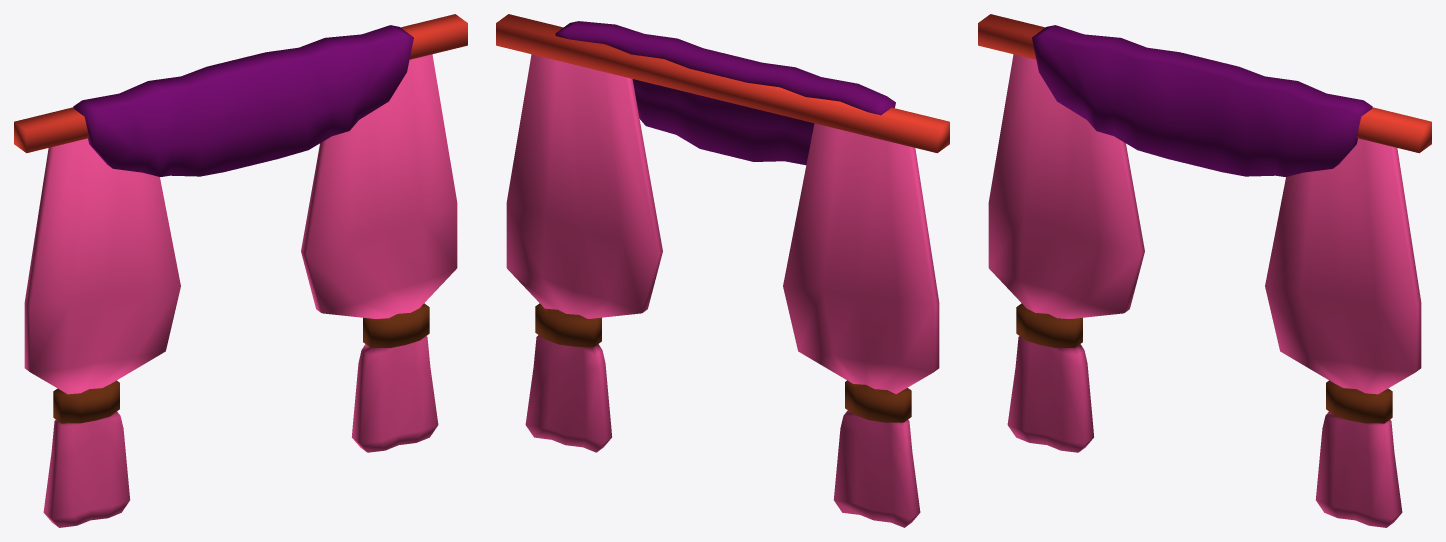
Rendered from cortina.fbx.
The picture shows the model from 3 angles, left to right: view 1: azimuth 30°, elevation 25°; view 2: azimuth 150°, elevation 25°; view 3: azimuth 330°, elevation 25°; orthographic projection.
Visible parts, largest first — view 1: Cortina; view 2: Cortina; view 3: Cortina.
Boxes of the visible parts, left/top/right/bottom form: Cortina: left=14, top=14, right=467, bottom=527; Cortina: left=496, top=14, right=949, bottom=527; Cortina: left=978, top=14, right=1431, bottom=527.
Size of the model in its own units: 1800 by 1626 by 166.
